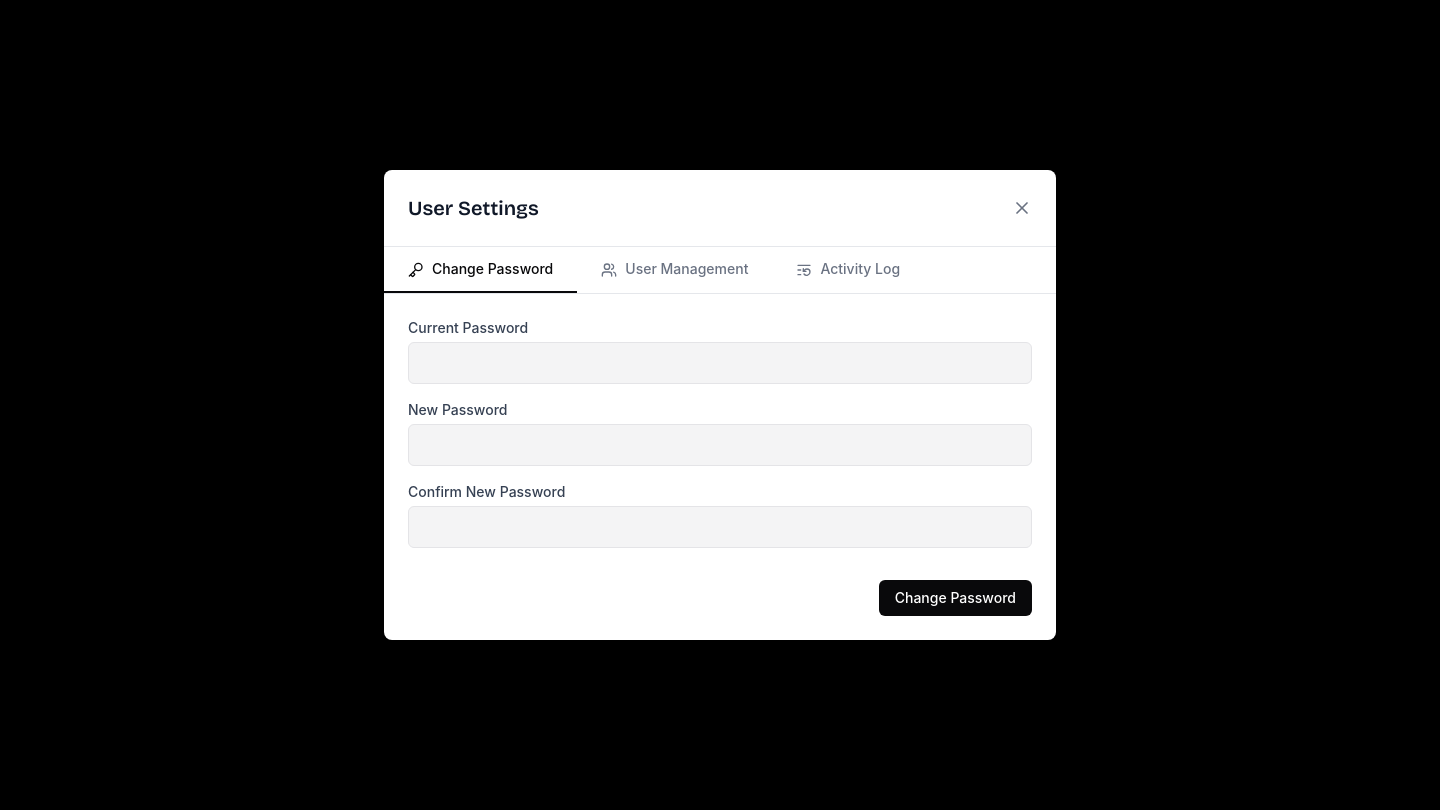
UserSettings › loads and lists managed users when an admin opens the User Management tab
Click the button "User Management": (675, 270) [577,247,772,293]
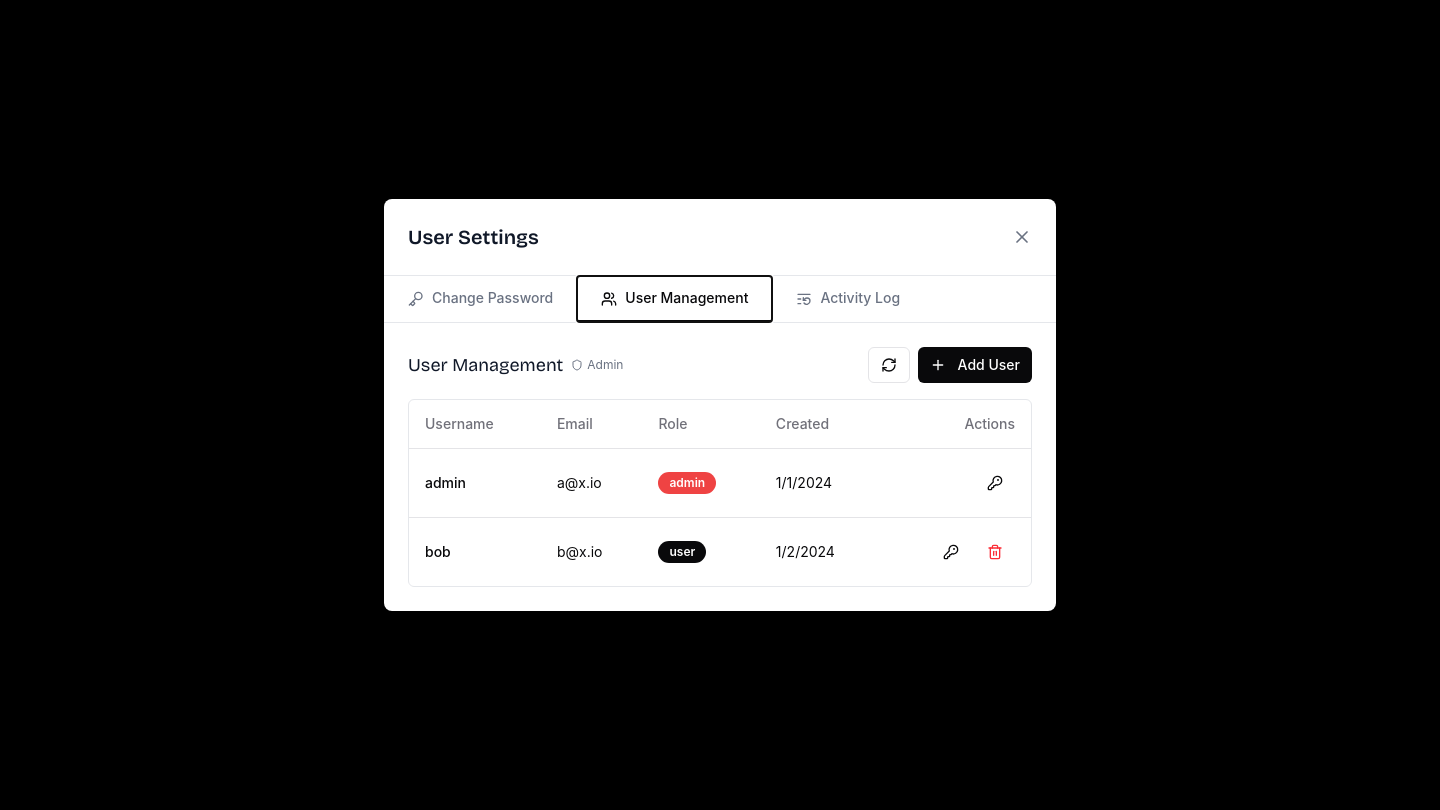
Expected: the text "bob" is shown, [409,517,541,586]
